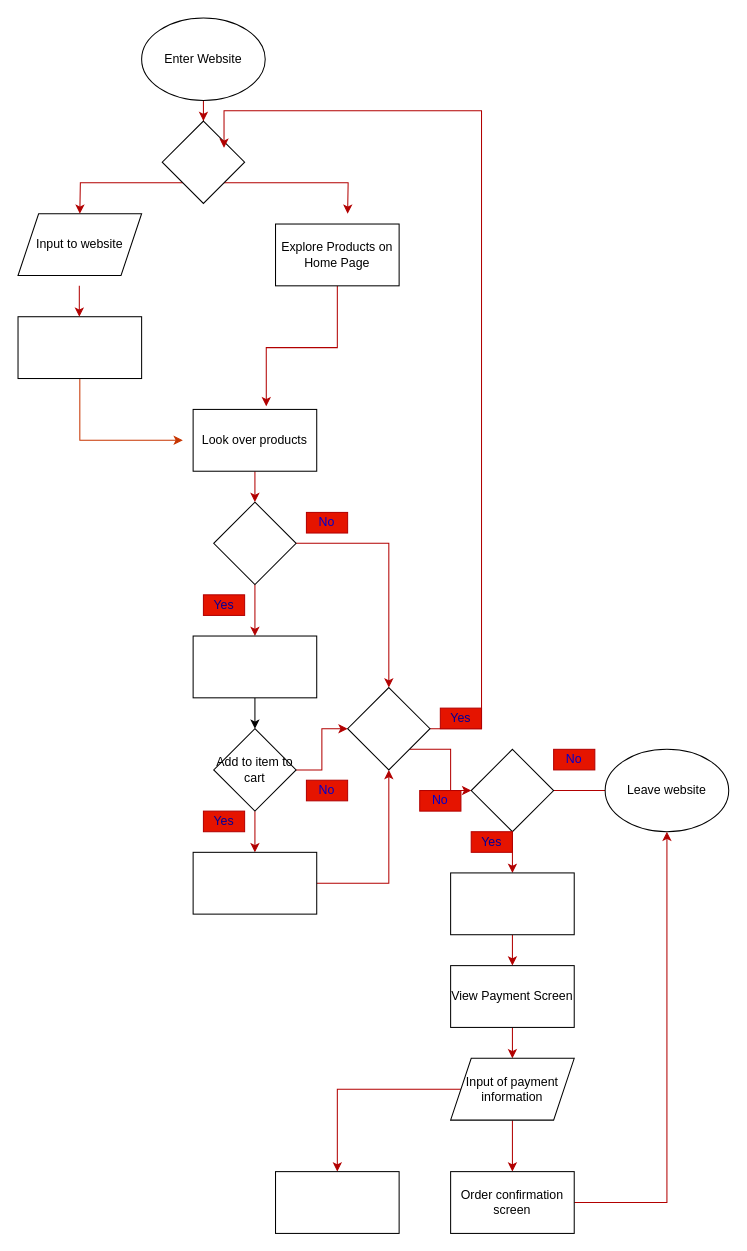
Image size: 747x1251. Some labels were removed from this diagram. The shapes that lost their labels are listed below. From the top down, each one's centre as x and y in pixels, then its label:
the point at 203,161: Product exploration
the point at 79,347: Searches for a product
the point at 254,543: View specific product
the point at 254,666: Product webpage opens
the point at 388,728: Continue Shopping
the point at 512,790: Checkout
the point at 254,882: Added to cart confirmation
the point at 512,903: View Cart screen
the point at 336,1202: Receives an email
